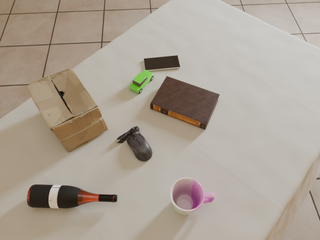book: (150, 76, 220, 129)
bottle: (27, 185, 117, 208)
box: (27, 68, 108, 152)
cup: (170, 178, 214, 215)
mouse: (117, 126, 152, 161)
phone: (144, 56, 180, 71)
toy_car: (129, 70, 154, 93)
